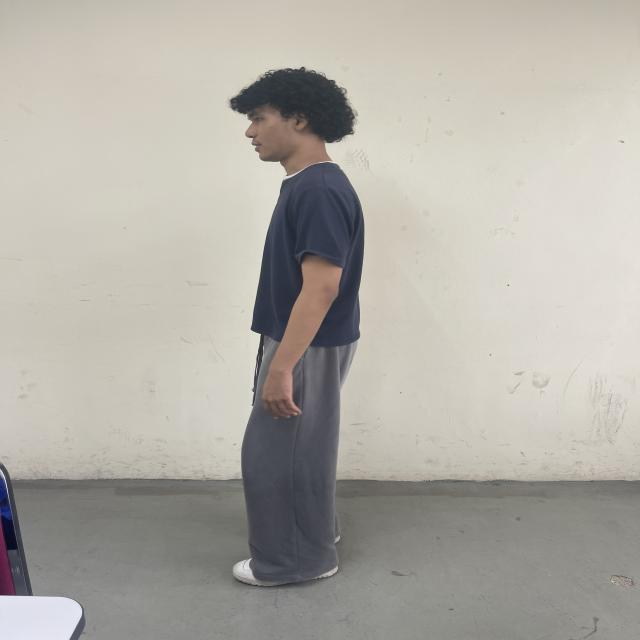person_without_labcoat: (230, 68, 364, 586)
